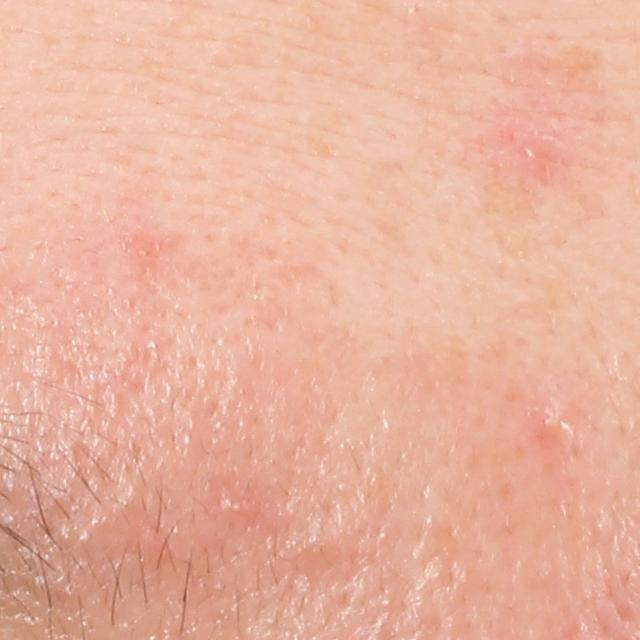papule: (525, 388, 586, 457)
